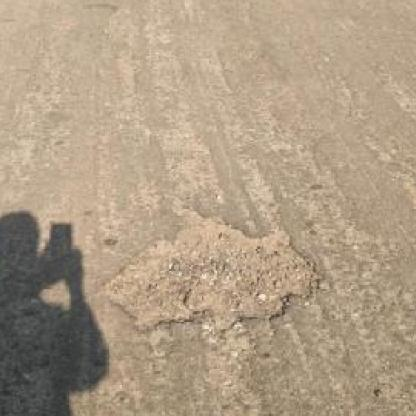pothole: (94, 205, 324, 336)
